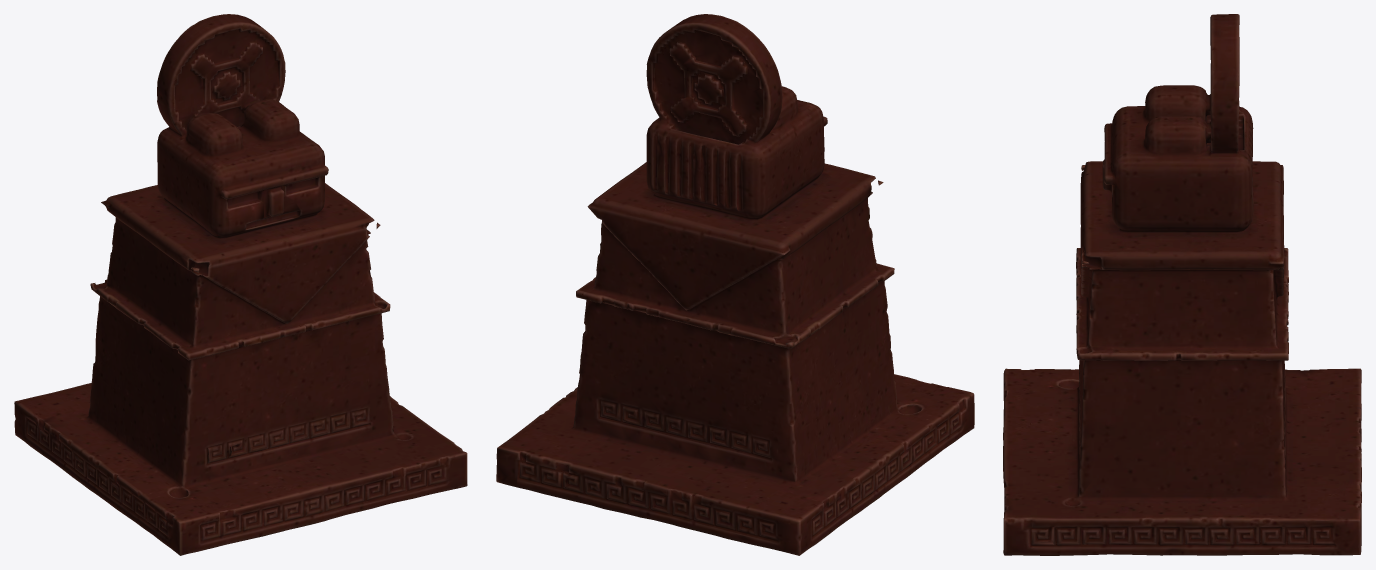
The model's file is queen-tezontle.glb.
3 renders of one model, left to right at view 1: azimuth 30°, elevation 25°; view 2: azimuth 150°, elevation 25°; view 3: azimuth 270°, elevation 25°, orthographic. The views are drawn at different scales.
Parts seen in each view (by area): view 1: queen; view 2: queen; view 3: queen.
Boxes of the visible parts, <box> form: queen: <box>14,14,467,555</box>; queen: <box>496,14,974,555</box>; queen: <box>1003,14,1361,555</box>.
Size of the model in its own units: 0.7629 by 1.08 by 0.763.
1 material, 1 textured.
